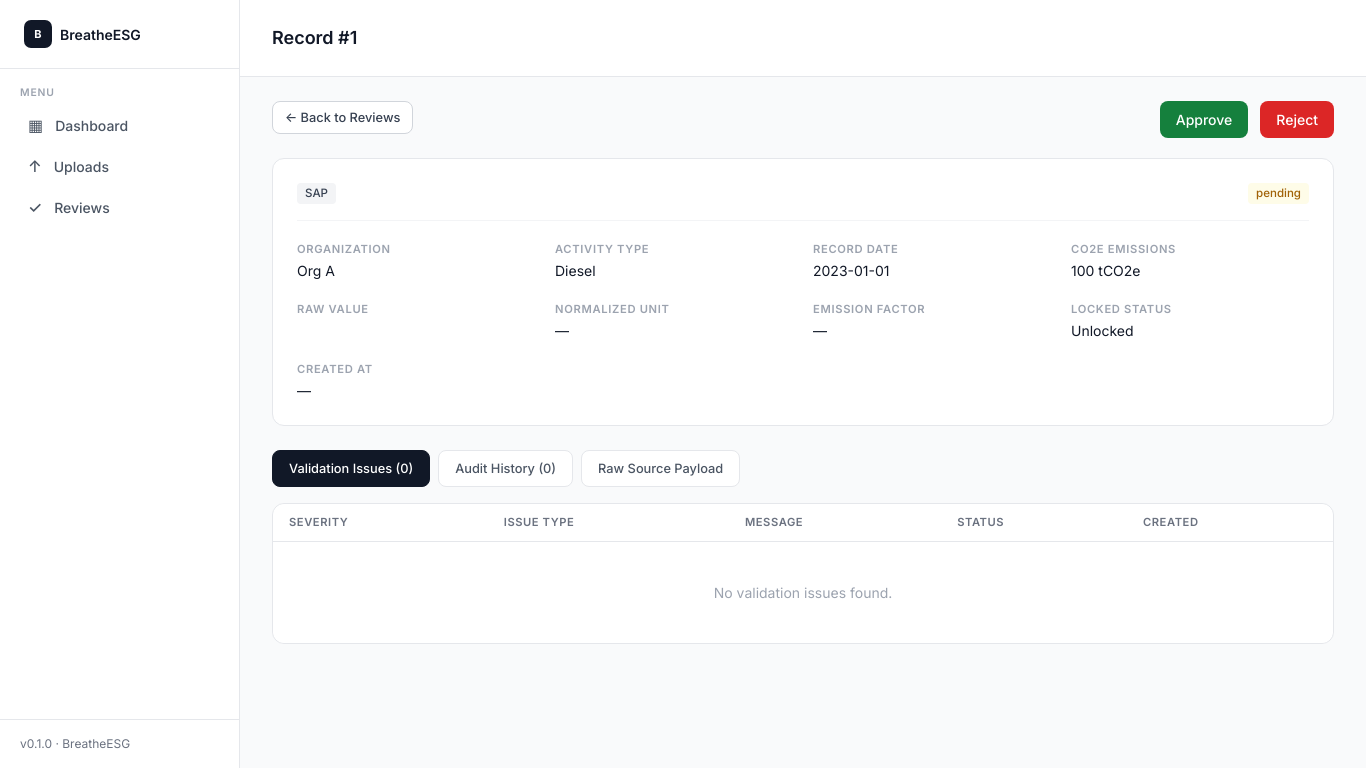
Test: RecordDetail Page › handles approve action
Expected: the text "Org A" is shown, [297,262,335,279]
Click the button "Approve" at (1204, 120), box [1160,101,1248,138]
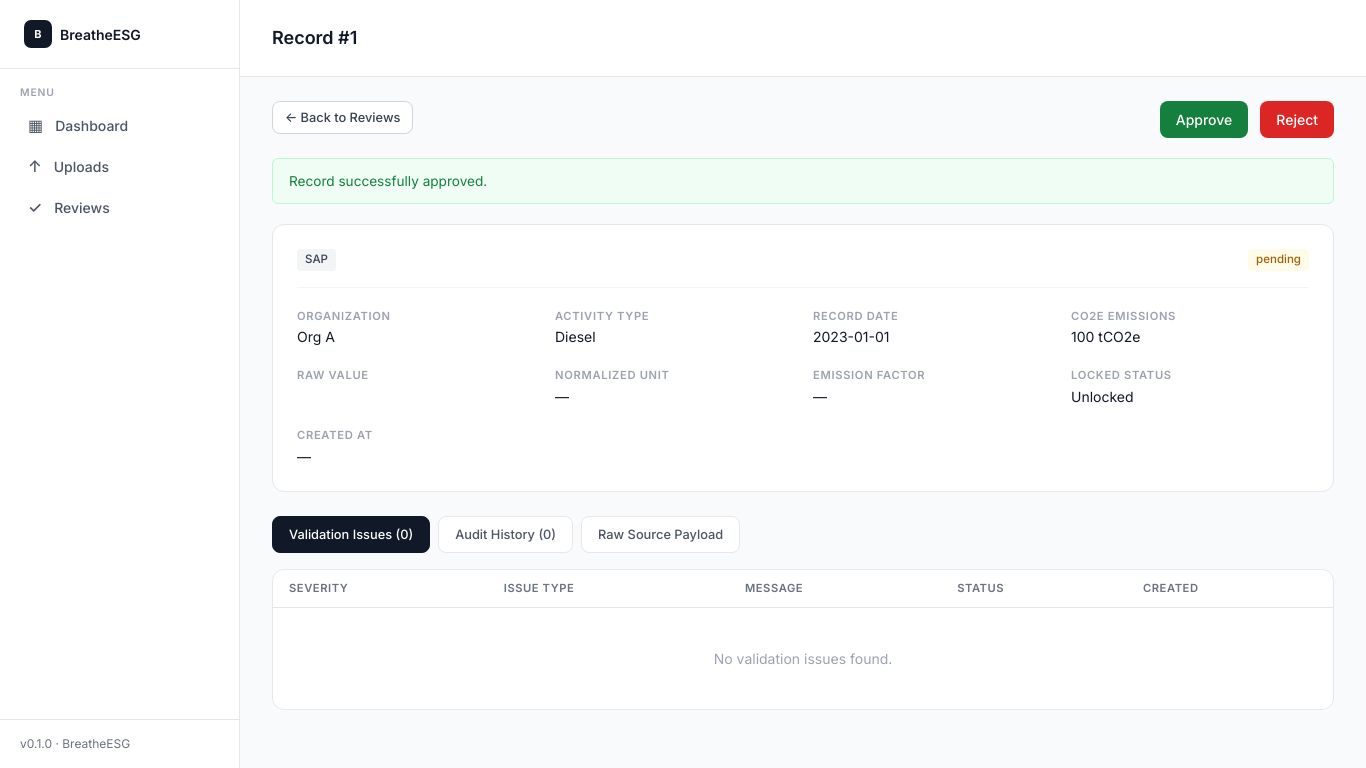
Result: the text "Record successfully approved." is shown at [272,158,1334,204]
